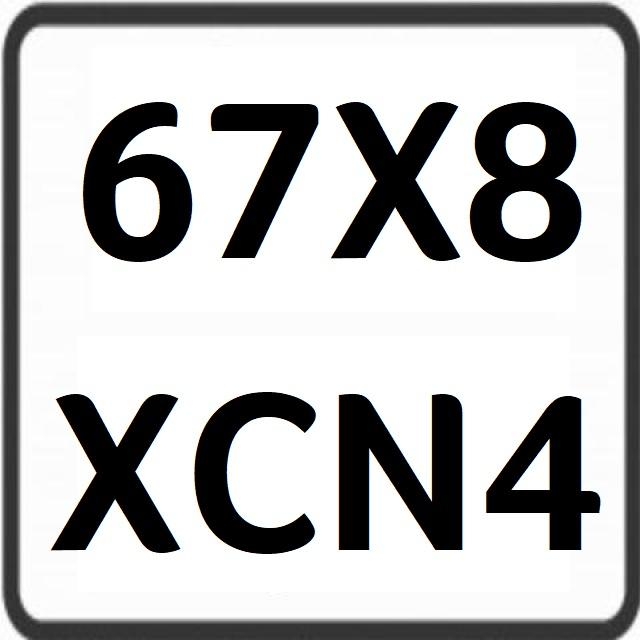4: (486, 354, 604, 580)
6: (74, 76, 198, 274)
7: (214, 82, 323, 276)
8: (466, 70, 590, 274)
N: (336, 363, 467, 562)
X: (44, 370, 184, 578), (329, 74, 461, 276)
